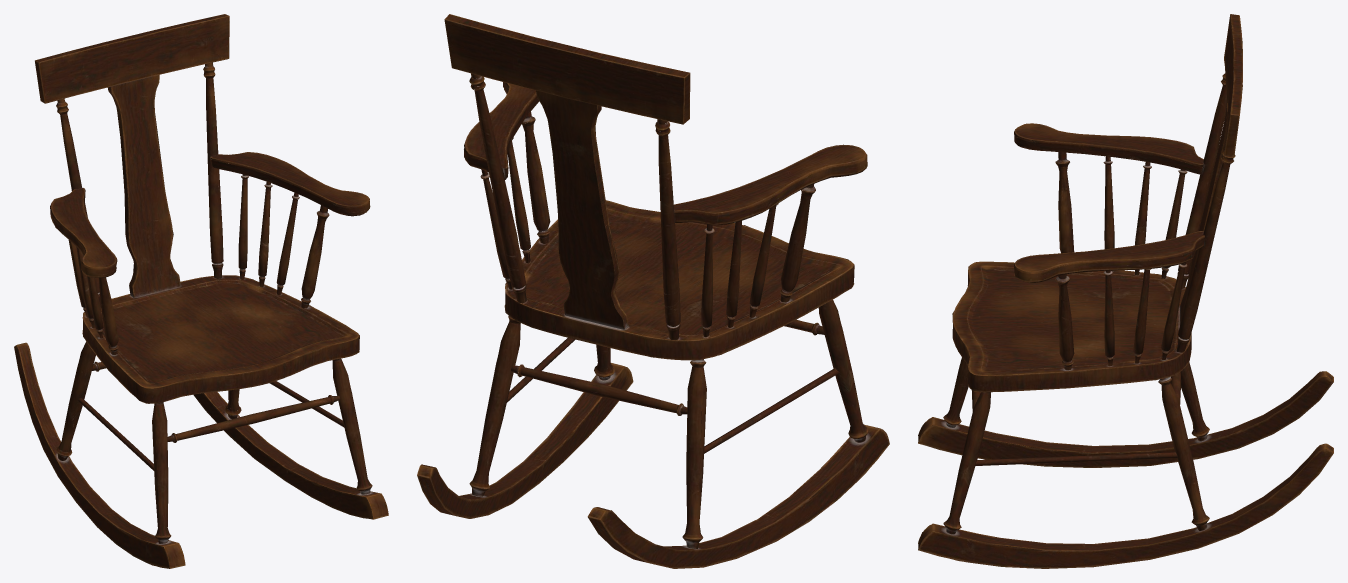
File: Rockingchair_01.glb
3 views of the same model, side by side, from view 1: azimuth 30°, elevation 25°; view 2: azimuth 150°, elevation 25°; view 3: azimuth 270°, elevation 25° (orthographic). The views are drawn at different scales.
Parts seen in each view (by area): view 1: Rockingchair_01; view 2: Rockingchair_01; view 3: Rockingchair_01.
Boxes of the visible parts, x1=… form: Rockingchair_01: x1=14, y1=14, x2=388, y2=568; Rockingchair_01: x1=417, y1=14, x2=889, y2=568; Rockingchair_01: x1=918, y1=14, x2=1333, y2=568.
Bounding box in the file's own units: 0.7093 × 0.9949 × 0.8337.
Materials: 1 (1 with a texture image).
